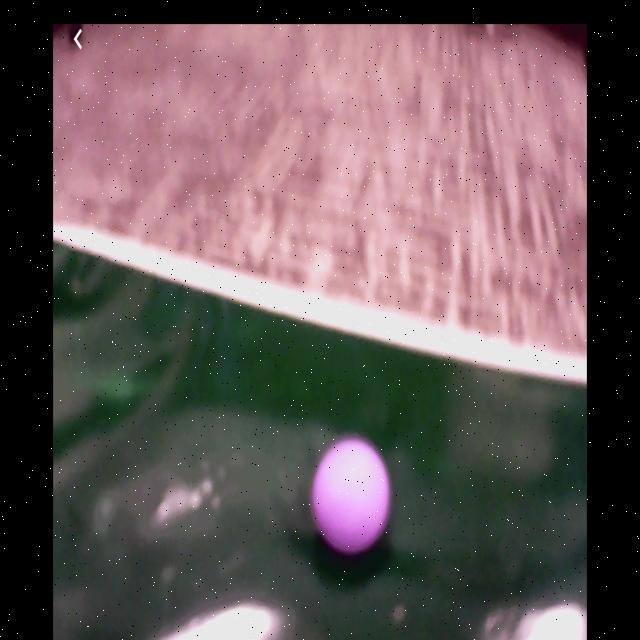ball: (313, 436, 392, 560)
